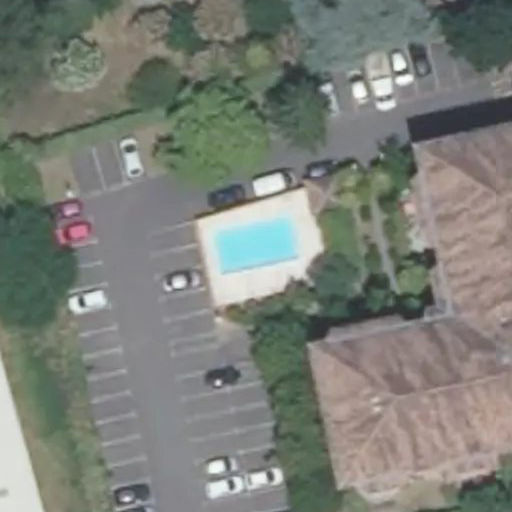pool: (210, 227, 301, 256)
